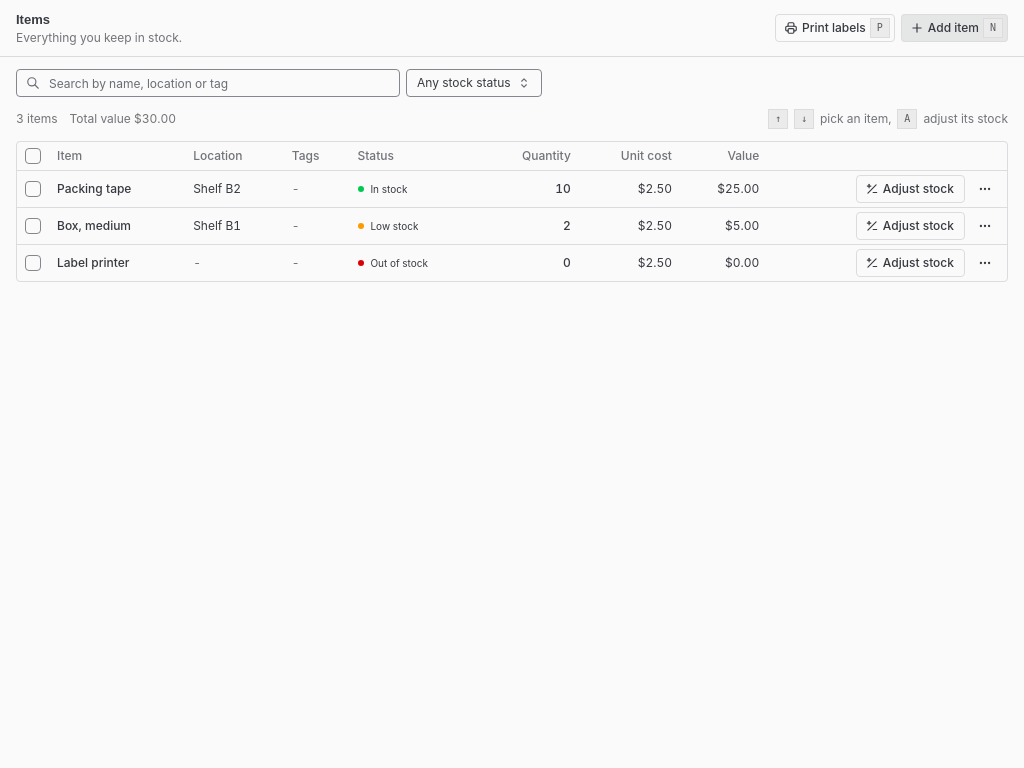
Test: ItemsPage › adds an item from the form and blocks a blank name
Later steps or results of the test are not shown.
Step 1. Click the button "Add item N" → (954, 28), box x1=901 y1=14 x2=1008 y2=42
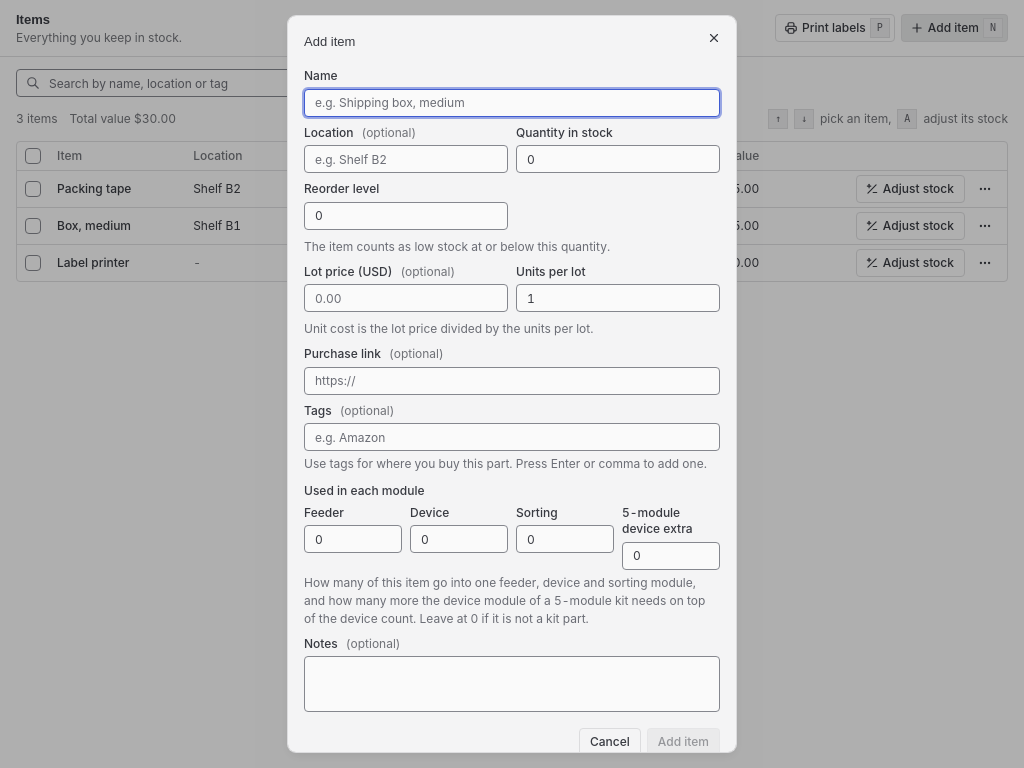
Result: the button "Add item" is disabled at x1=647 y1=728 x2=720 y2=752
Step 2. Type "Bubble wrap" into the field labelled "Name" → (512, 102), box x1=304 y1=88 x2=720 y2=116
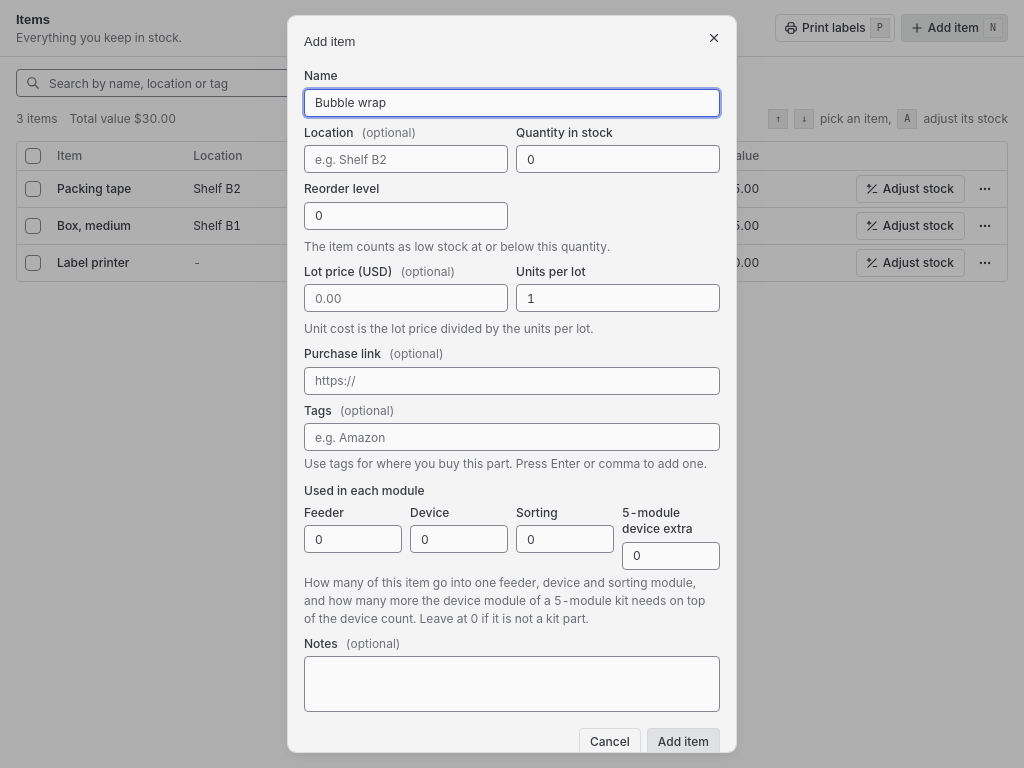
Step 3. Type "35" into the field labelled "Lot price (USD) (optional)" → (406, 298), box x1=304 y1=284 x2=508 y2=312
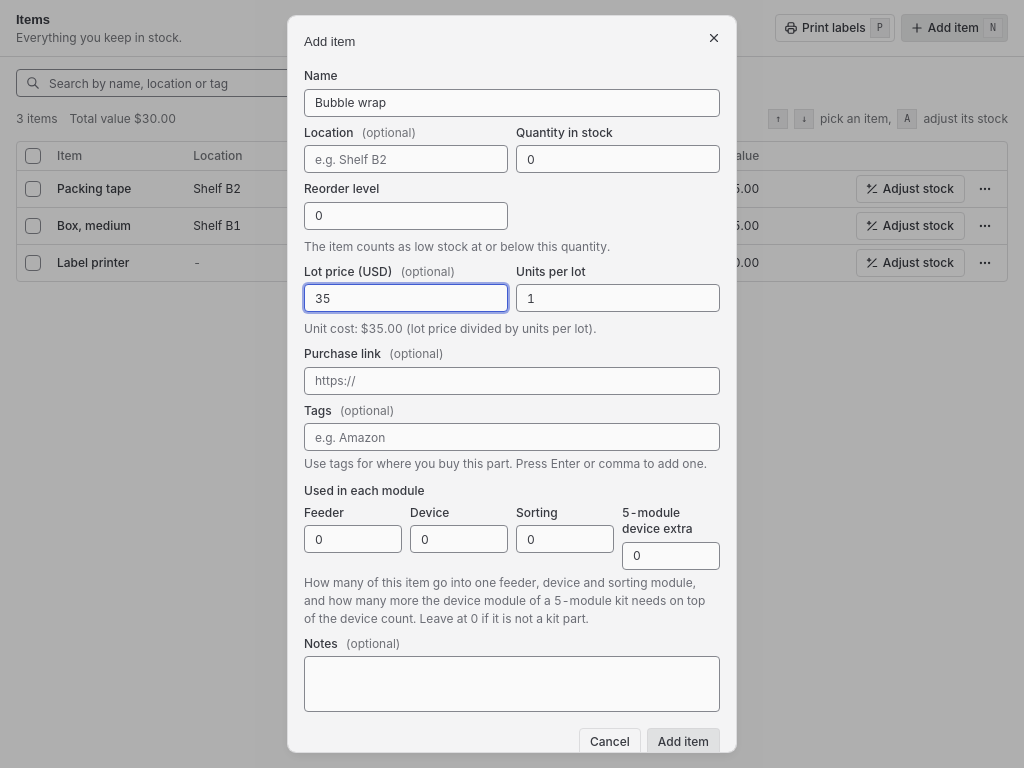
Step 4. Replace the text in the number field labelled "Units per lot" with "10" → (618, 298), box x1=516 y1=284 x2=720 y2=312
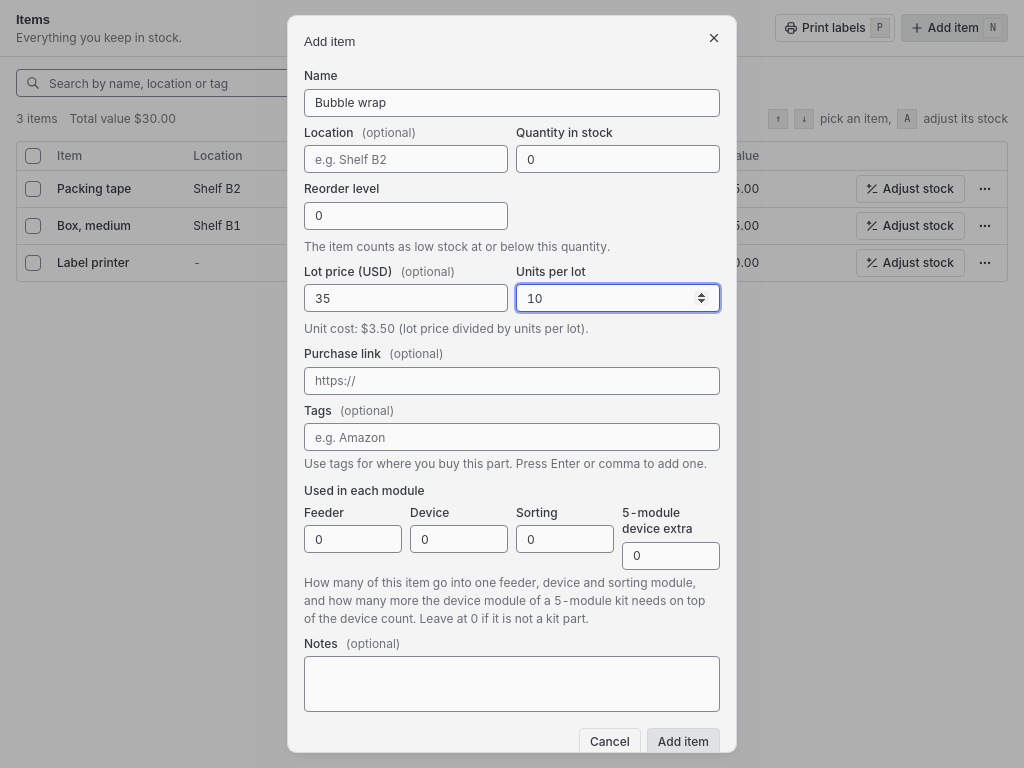
Result: the text "Unit cost: $3.50 (lot price divided by units per lot)." is shown at x1=304 y1=321 x2=589 y2=336
